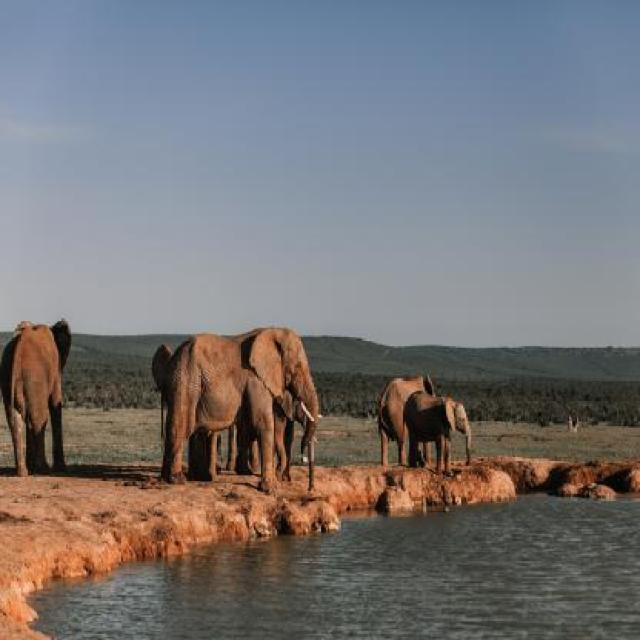Elephant: (152, 316, 326, 496), (2, 312, 84, 486), (401, 388, 477, 472)
